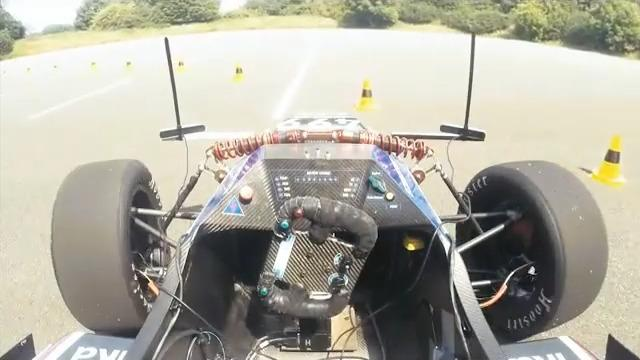yellow_cone: (590, 130, 631, 190), (354, 77, 380, 120), (231, 59, 248, 90)
